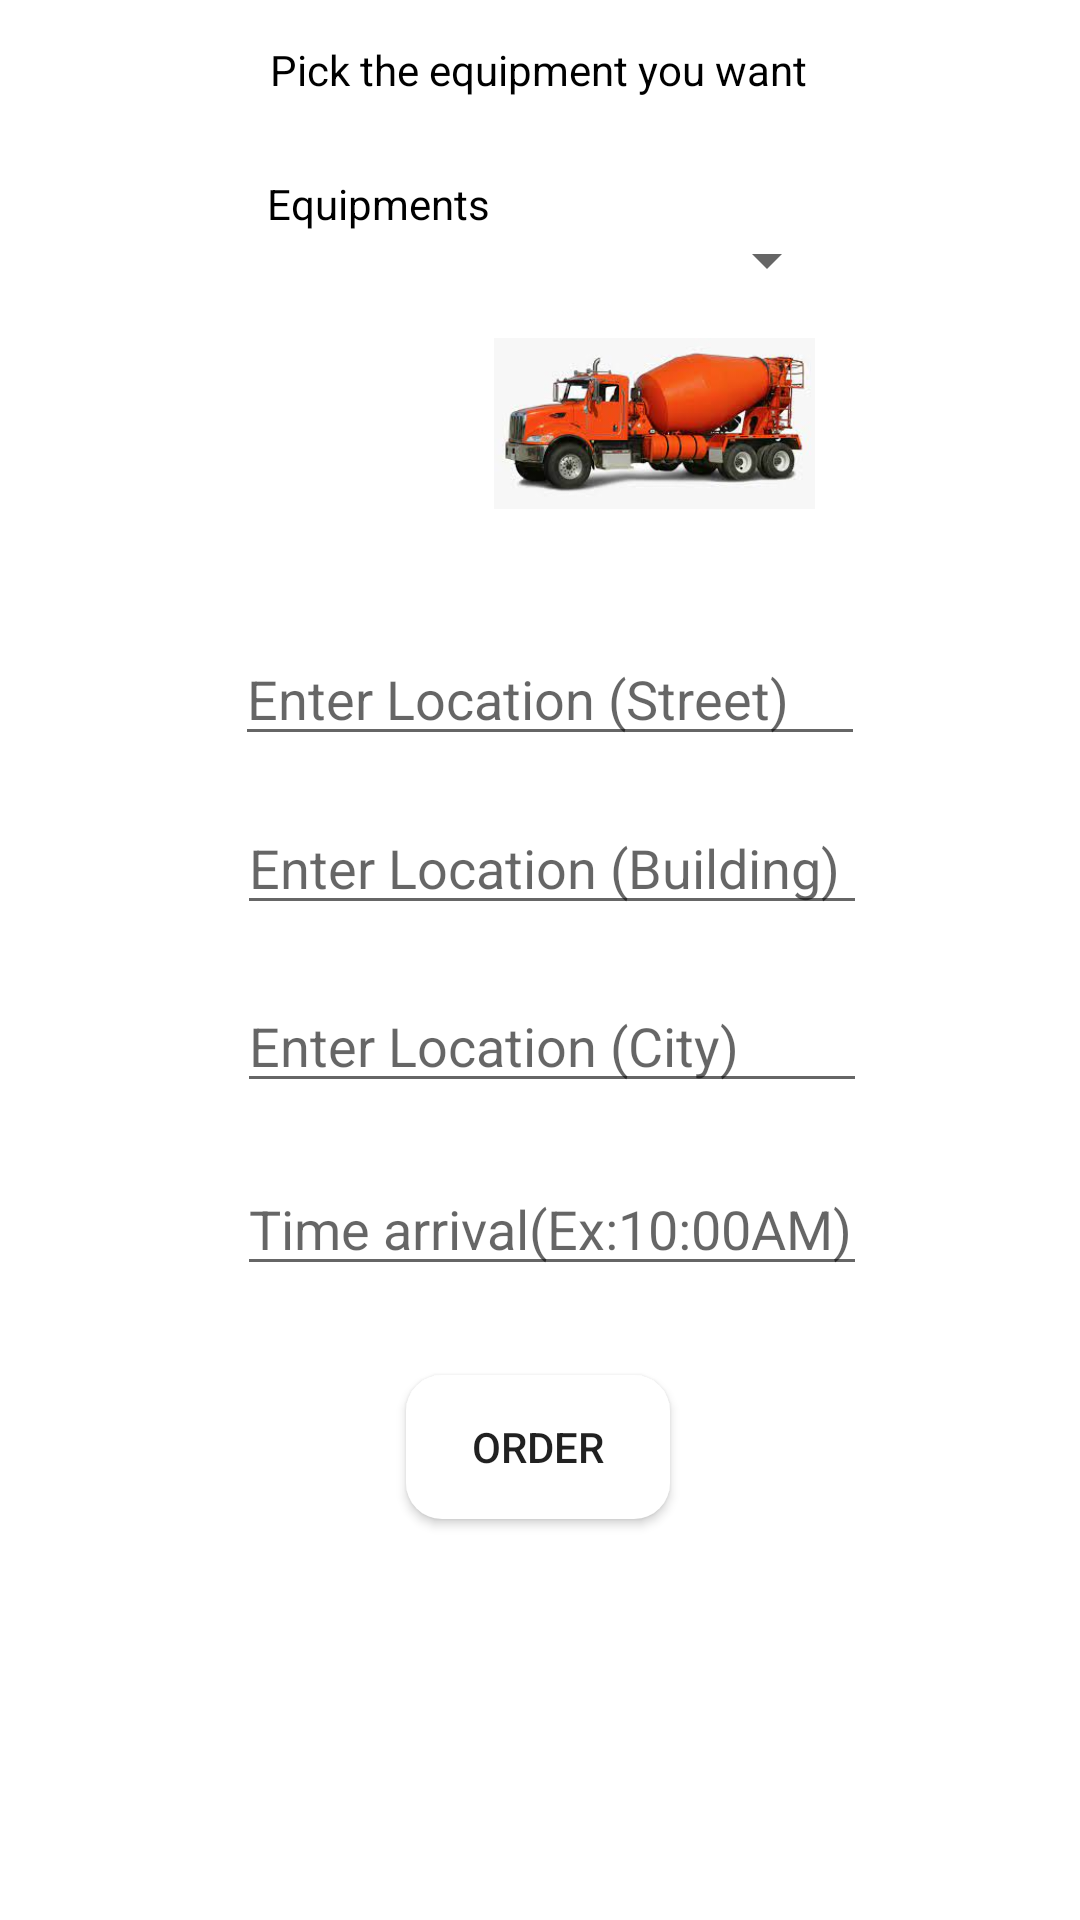

Screen size 1080 × 1920. Icon name, then its center in pixels as [x,y]:
concrete: [656,422]
